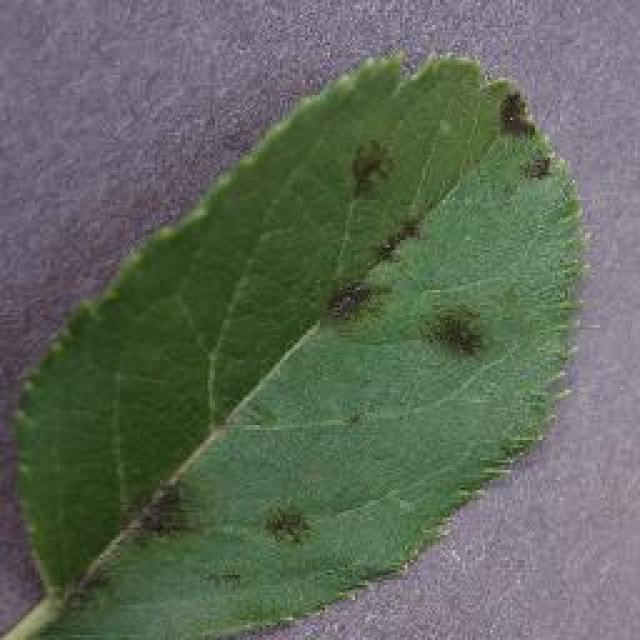App_scab: (304, 145, 492, 380), (105, 470, 210, 559), (484, 78, 558, 188), (258, 499, 322, 555)
